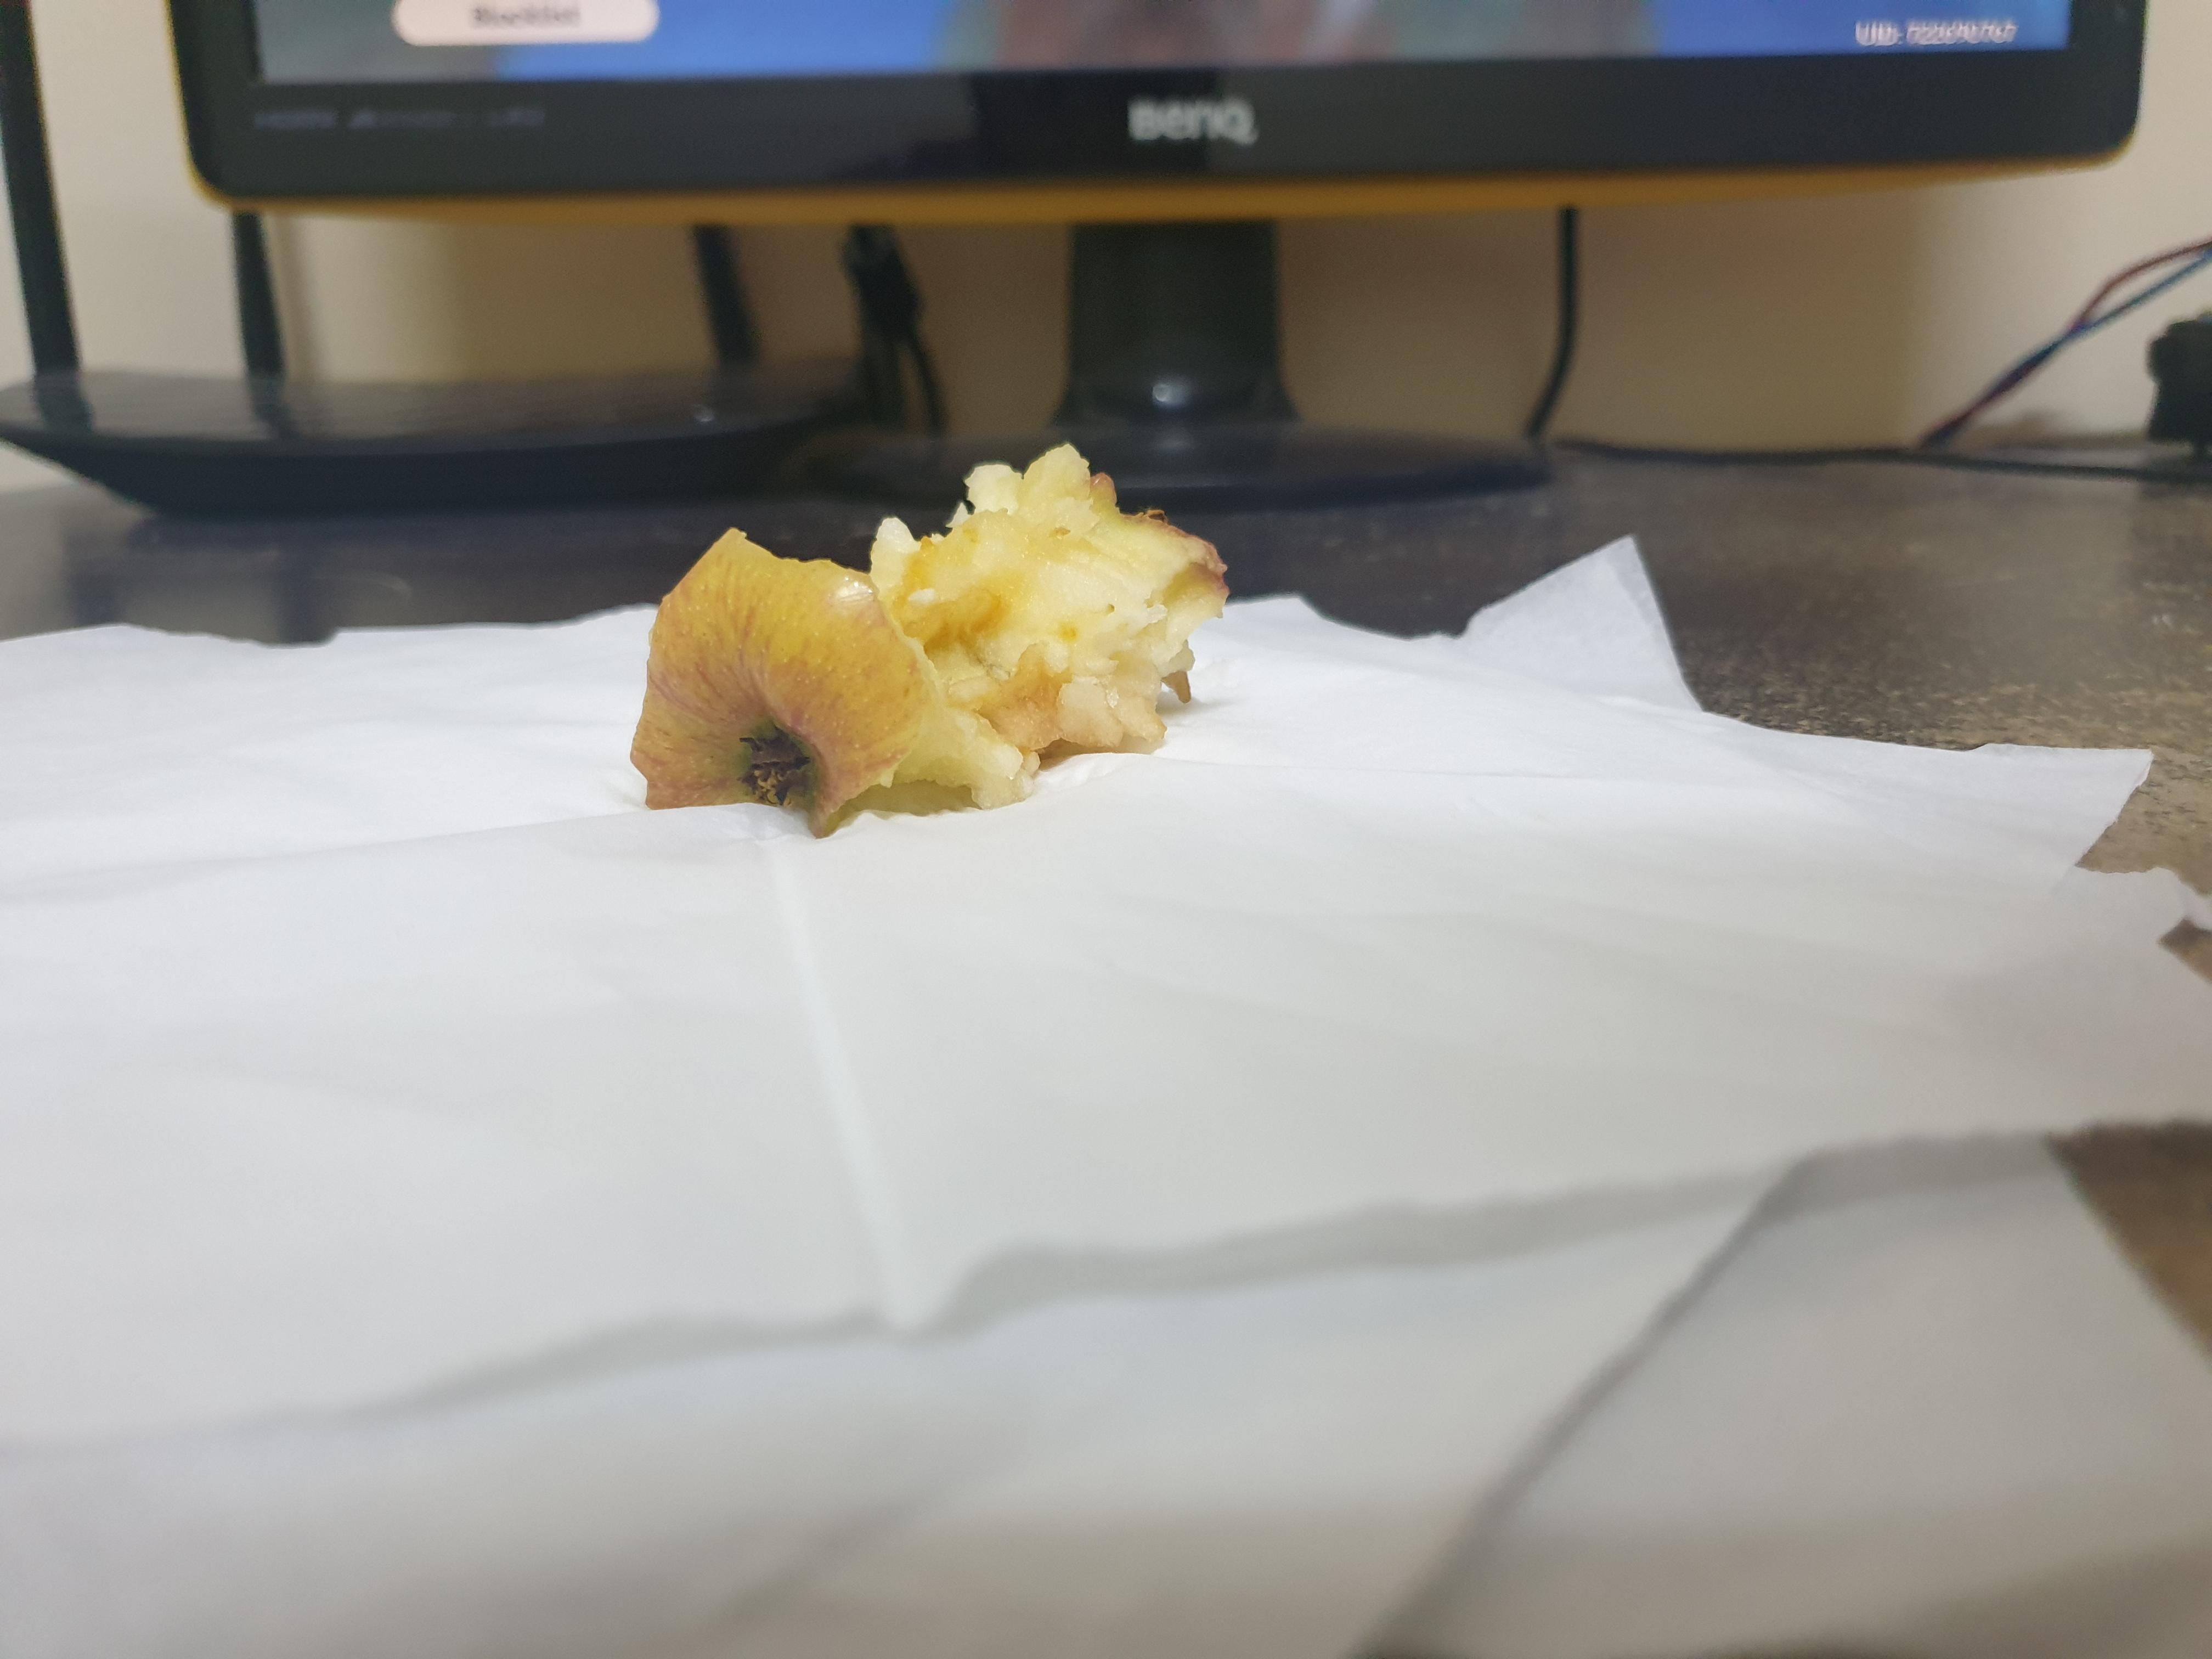Apple: (610, 429, 1266, 868)
